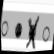correct: (14, 22, 24, 40)
not correct: (23, 11, 42, 51)
